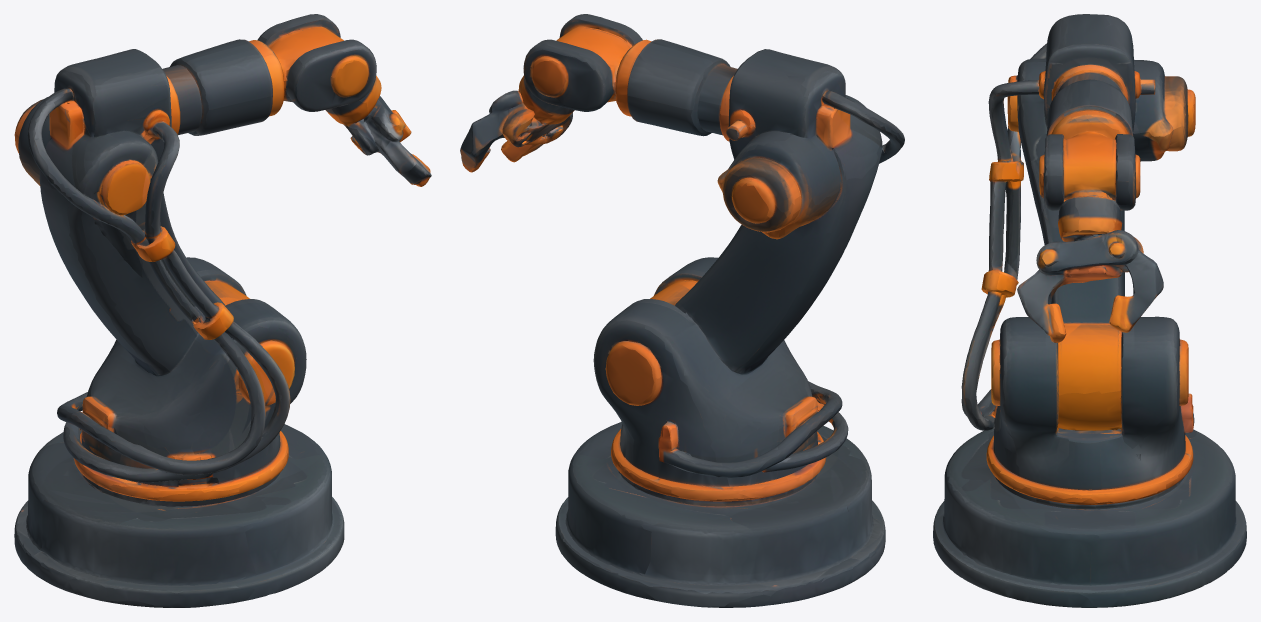
File: robotarm2.glb
The picture shows the model from 3 angles, left to right: view 1: azimuth 30°, elevation 25°; view 2: azimuth 150°, elevation 25°; view 3: azimuth 270°, elevation 25°; orthographic projection. The views are drawn at different scales.
Visible parts, largest first — view 1: geometry_0; view 2: geometry_0; view 3: geometry_0.
Boxes of the visible parts, bbox=[...] form: geometry_0: bbox=[14, 14, 431, 607]; geometry_0: bbox=[460, 14, 904, 607]; geometry_0: bbox=[933, 14, 1246, 607].
Bounding box in the file's own units: 0.5155 × 0.6 × 0.3541.
1 material, 1 textured.
